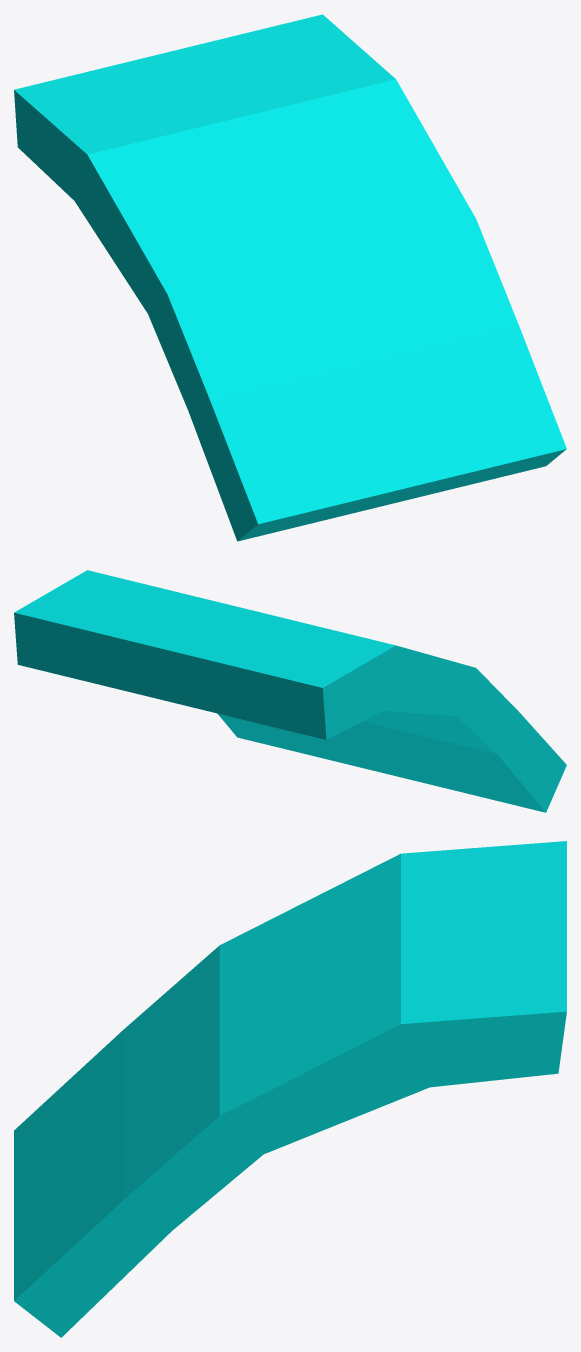
File: SM_Bld_Roof_Thatch_Convex_01_Collision.fbx
3 renders of one model, top to bottom at view 1: azimuth 30°, elevation 25°; view 2: azimuth 150°, elevation 25°; view 3: azimuth 270°, elevation 25°, orthographic. The views are drawn at different scales.
Parts seen in each view (by area): view 1: SM_Bld_Roof_Thatch_Convex_01_Collision; view 2: SM_Bld_Roof_Thatch_Convex_01_Collision; view 3: SM_Bld_Roof_Thatch_Convex_01_Collision.
Part boxes in pixels (x1,y1,x2,y2): SM_Bld_Roof_Thatch_Convex_01_Collision: (14, 14, 566, 541); SM_Bld_Roof_Thatch_Convex_01_Collision: (14, 570, 566, 812); SM_Bld_Roof_Thatch_Convex_01_Collision: (14, 841, 566, 1337).
Bounding box in the file's own units: 249 × 222 × 341.
